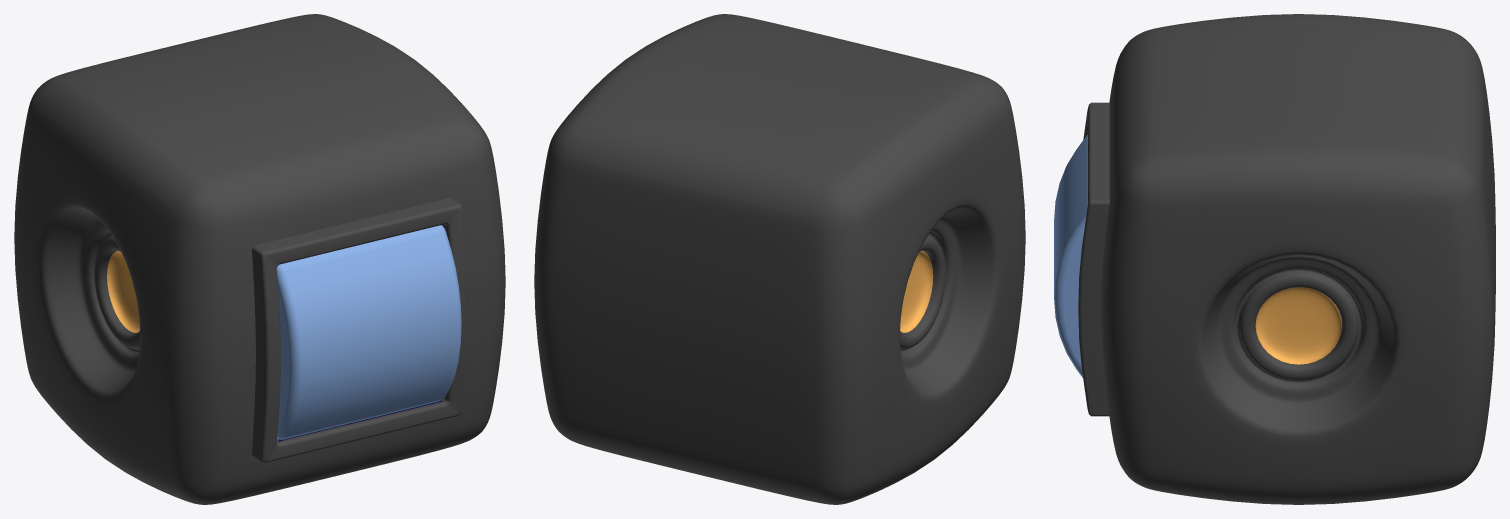
The model's file is SM_Crusher_Character_Ball_01.fbx.
The picture shows the model from 3 angles, left to right: view 1: azimuth 30°, elevation 25°; view 2: azimuth 150°, elevation 25°; view 3: azimuth 270°, elevation 25°; orthographic projection. The views are drawn at different scales.
Visible parts, largest first — view 1: SM_Crusher_Body, SM_Crusher_Glass, SM_Crusher_Frame; view 2: SM_Crusher_Body; view 3: SM_Crusher_Body, SM_Crusher_Frame, SM_Crusher_Glass.
Boxes of the visible parts, box(x1,y1,x2,y2) form: SM_Crusher_Body: box(14, 14, 505, 504); SM_Crusher_Glass: box(276, 225, 461, 439); SM_Crusher_Frame: box(251, 197, 467, 462); SM_Crusher_Body: box(534, 14, 1025, 504); SM_Crusher_Body: box(1101, 14, 1495, 504); SM_Crusher_Frame: box(1078, 102, 1109, 416); SM_Crusher_Glass: box(1054, 134, 1087, 378).
Bounding box in the file's own units: 2.18 × 2.15 × 2.41.
